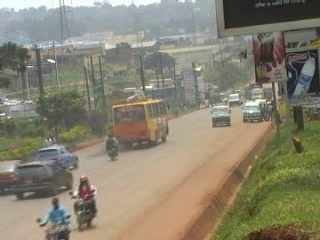Car: (8, 158, 74, 198), (33, 144, 80, 174), (0, 156, 25, 194)
Motorcycle: (68, 173, 99, 230), (36, 197, 73, 239), (103, 131, 119, 162)
